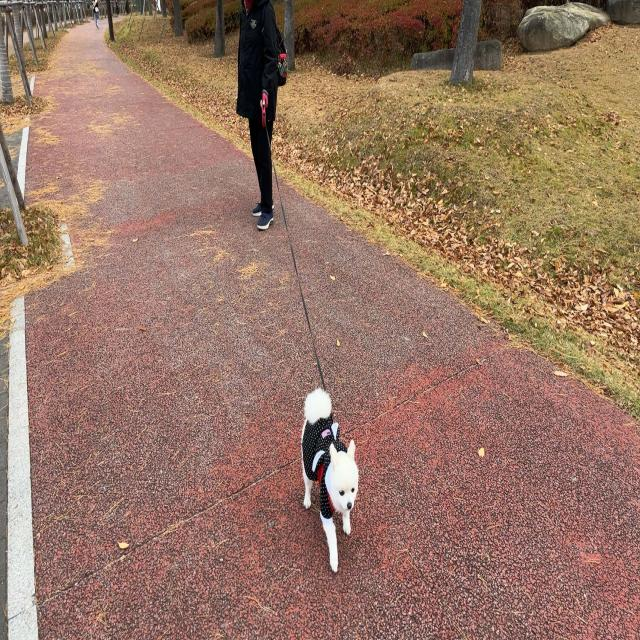Leashed_Dog: (249, 94, 359, 574)
